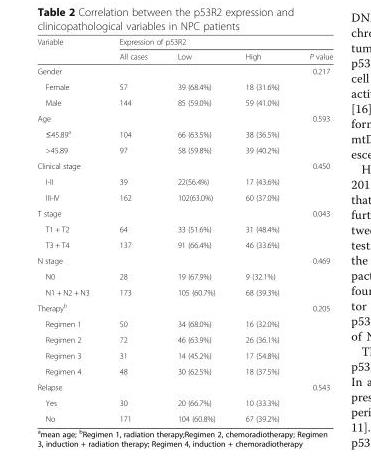table: (36, 36, 332, 422)
table column: (161, 36, 229, 422), (36, 36, 103, 422), (229, 36, 293, 422), (103, 36, 161, 422), (293, 36, 332, 422)
table column header: (36, 36, 332, 63)
table row: (36, 78, 332, 94), (36, 94, 332, 110), (36, 125, 332, 141), (36, 141, 332, 157), (36, 157, 332, 173), (36, 173, 332, 189), (36, 204, 332, 220), (36, 220, 332, 236), (36, 236, 332, 252), (36, 252, 332, 268), (36, 283, 332, 299), (36, 299, 332, 315), (36, 315, 332, 331), (36, 331, 332, 347), (36, 347, 332, 363), (36, 378, 332, 394), (36, 394, 332, 410), (36, 48, 332, 63), (36, 63, 332, 78), (36, 110, 332, 125), (36, 189, 332, 204), (36, 268, 332, 283), (36, 363, 332, 378), (36, 36, 332, 48), (36, 410, 332, 422)
table spanning cell: (103, 36, 332, 48), (36, 36, 103, 63)
